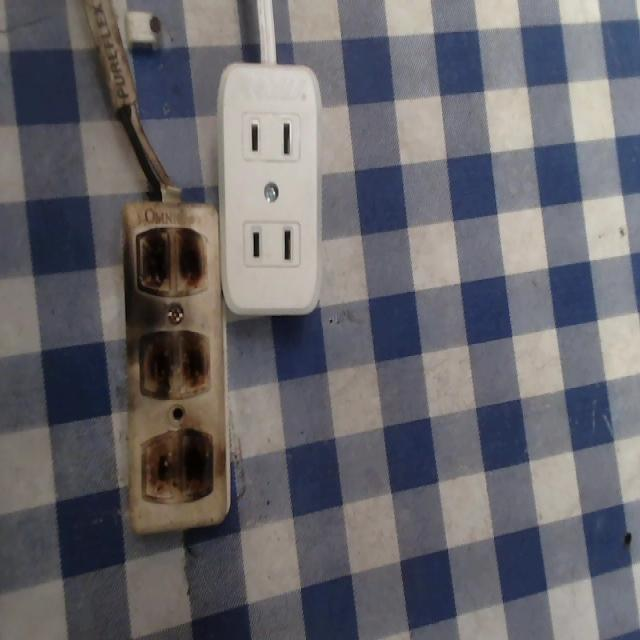-: (131, 322, 218, 402), (134, 425, 216, 507), (129, 226, 215, 302)
